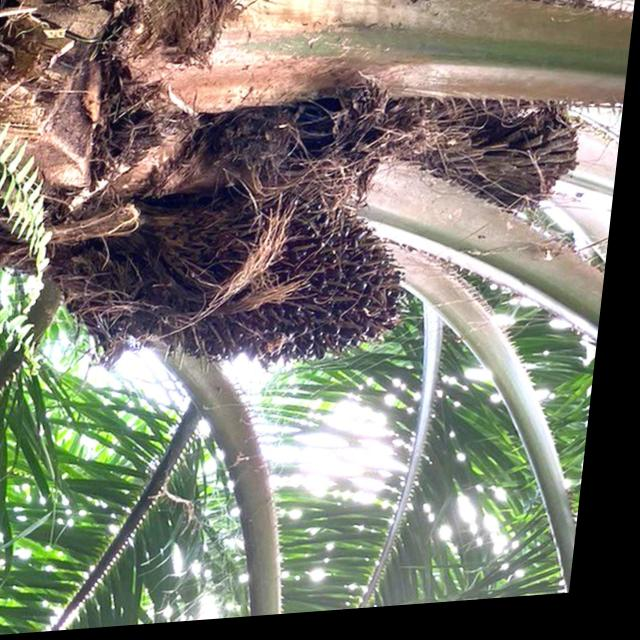almost: (120, 189, 431, 389)
